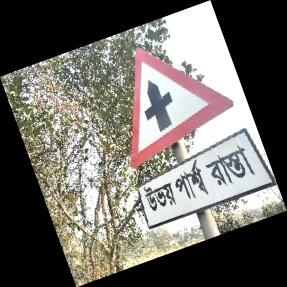Crossroad: (128, 45, 277, 232)
